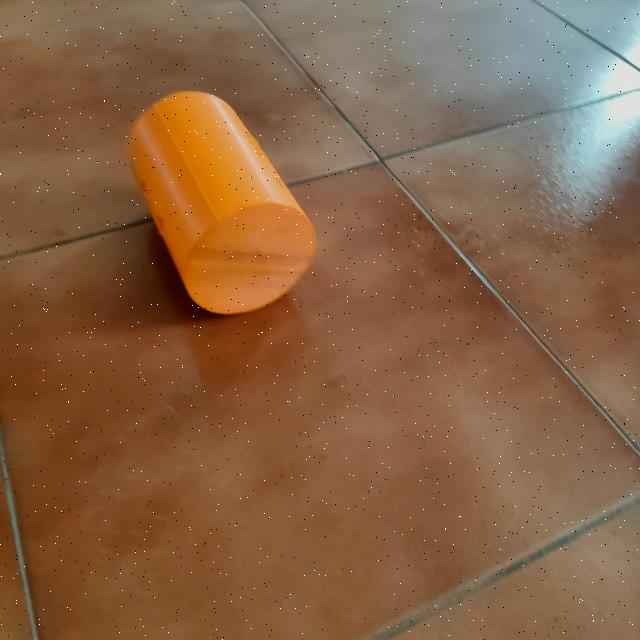Cylinder: (126, 88, 317, 316)
